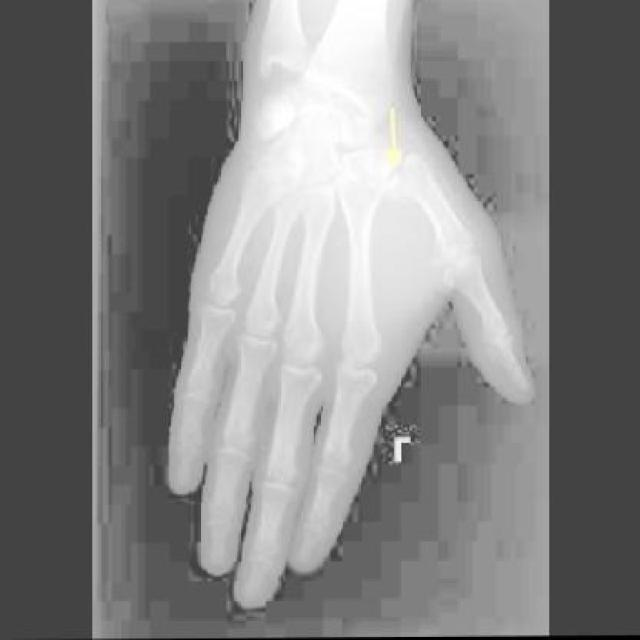Fracture: (371, 148, 420, 213)
